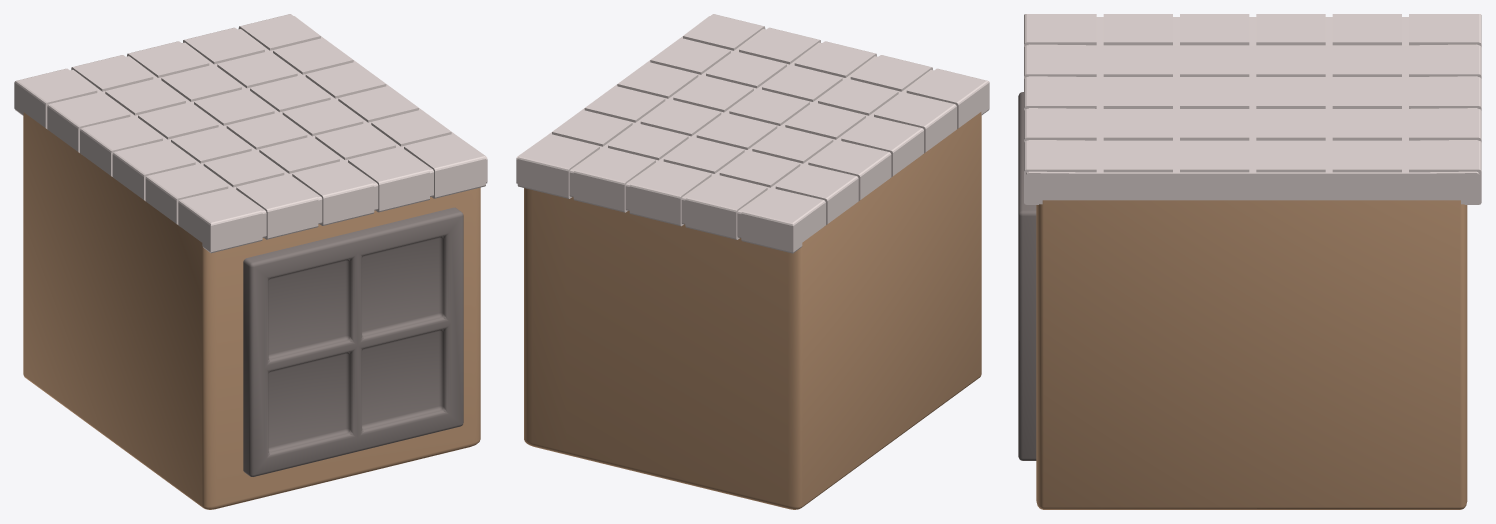
File: counter (1).fbx
3 renders of one model, left to right at view 1: azimuth 30°, elevation 25°; view 2: azimuth 150°, elevation 25°; view 3: azimuth 270°, elevation 25°, orthographic. The views are drawn at different scales.
Parts seen in each view (by area): view 1: Cube.046, Cube.047, Cube.076; view 2: Cube.046, Cube.047; view 3: Cube.046, Cube.047, Cube.076.
Boxes of the visible parts, box(x1,y1,x2,y2) form: Cube.046: box(23, 112, 480, 509); Cube.047: box(14, 14, 487, 253); Cube.076: box(243, 207, 463, 476); Cube.046: box(524, 112, 981, 509); Cube.047: box(516, 14, 989, 253); Cube.046: box(1036, 200, 1467, 509); Cube.047: box(1024, 14, 1481, 204); Cube.076: box(1018, 92, 1036, 460).
Size of the model in its own units: 304 by 307 by 376.
